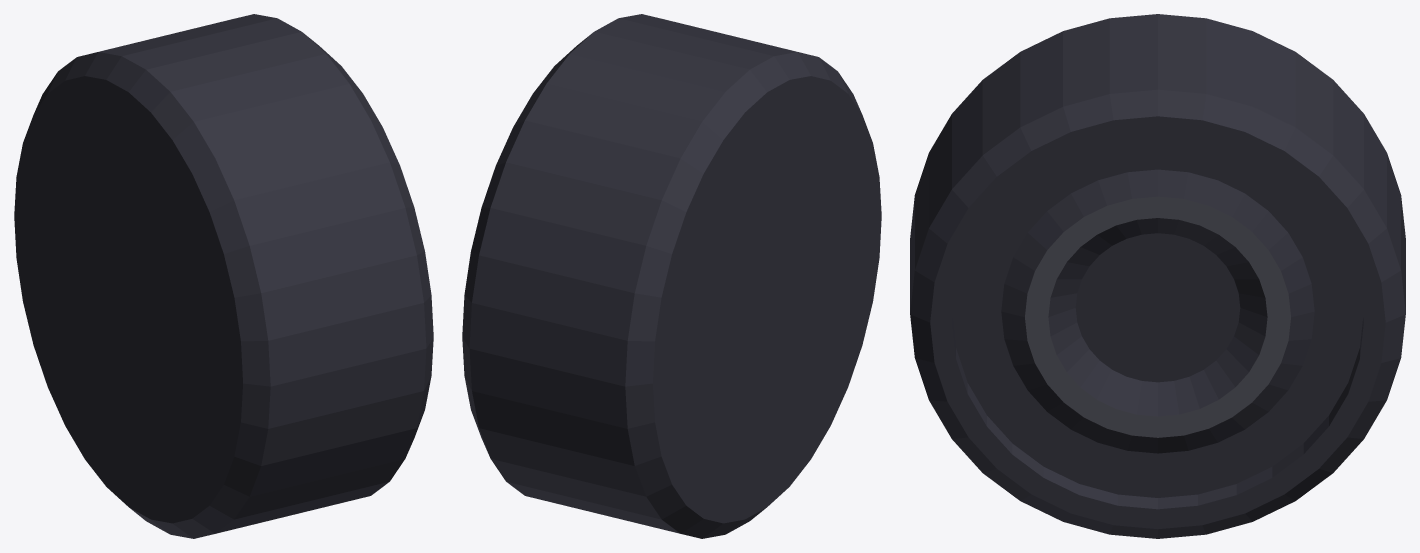
The model's file is car_wheel_left.fbx.
3 views of the same model, side by side, from view 1: azimuth 30°, elevation 25°; view 2: azimuth 150°, elevation 25°; view 3: azimuth 270°, elevation 25° (orthographic).
Parts seen in each view (by area): view 1: left; view 2: left; view 3: left.
Part boxes in pixels (x1=…): left: x1=14, y1=14, x2=433, y2=538; left: x1=462, y1=14, x2=881, y2=538; left: x1=910, y1=14, x2=1405, y2=538.
Size of the model in its own units: 84.58 by 37.36 by 84.58.
